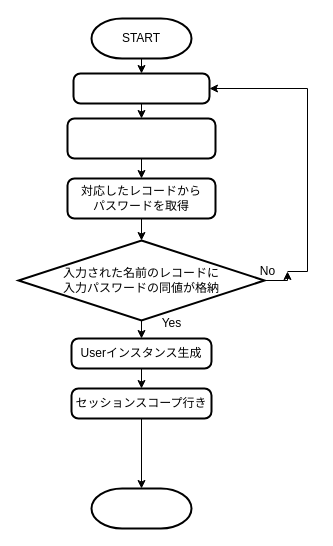
Some shapes in this 333 by 546 pixel diagram are drawn without their labels. Here are the shapes that lost their labels. From the top down, the box of each, then its label:
(72, 72, 210, 104): 名前、パスワード入力
(66, 117, 216, 159): 「WHERE 名前」の形で データベースにアクセス
(90, 487, 192, 529): END
